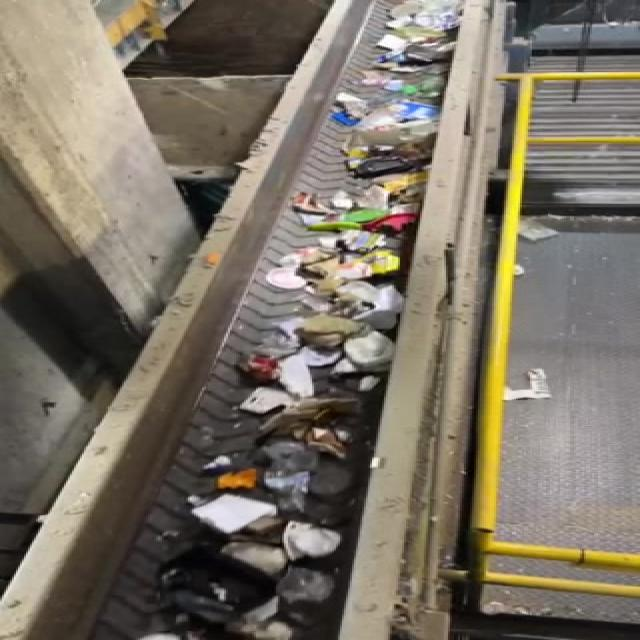paper: (190, 490, 280, 540)
